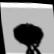not correct: (9, 19, 48, 54)
